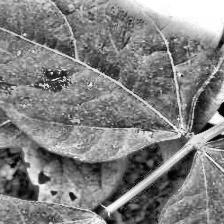ALS: (0, 0, 224, 161), (154, 98, 224, 224), (22, 144, 119, 208)
